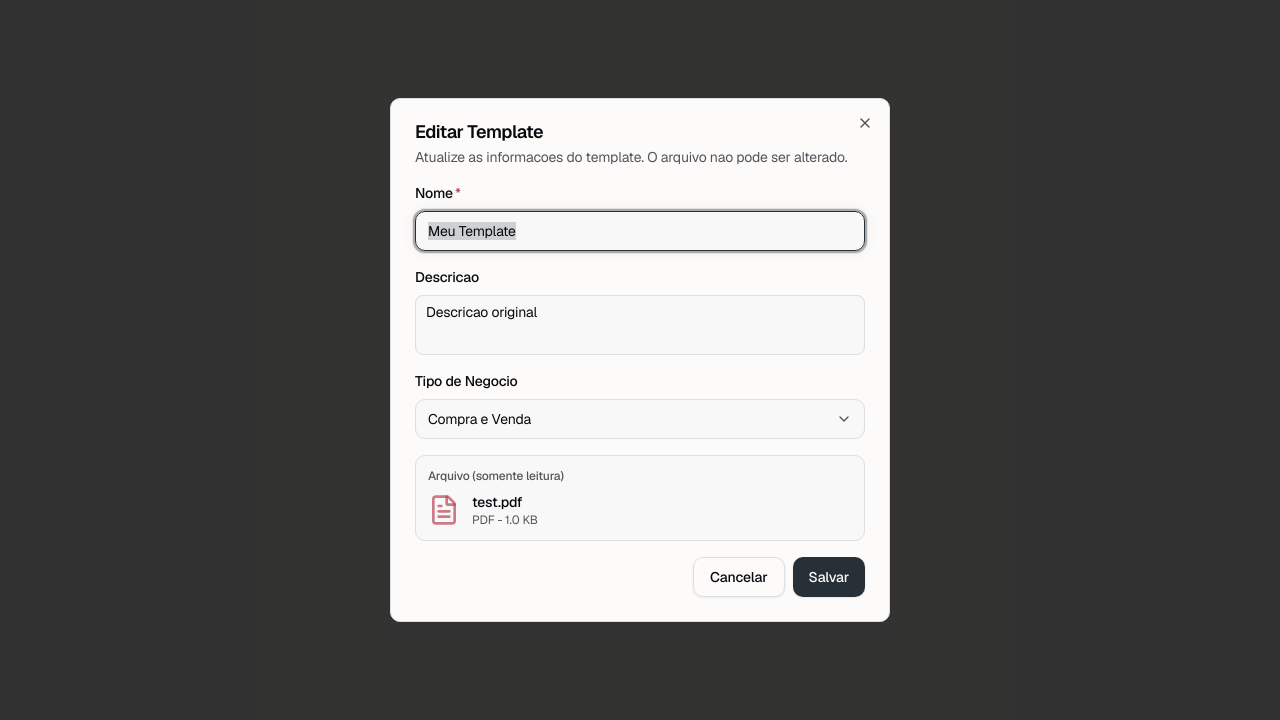
Test case: TemplateEditModal › Validation › validates nome minimum length
Replace the text in the field labelled "Nome*" with "AB" at point(640, 231), box 415,211 -> 865,251
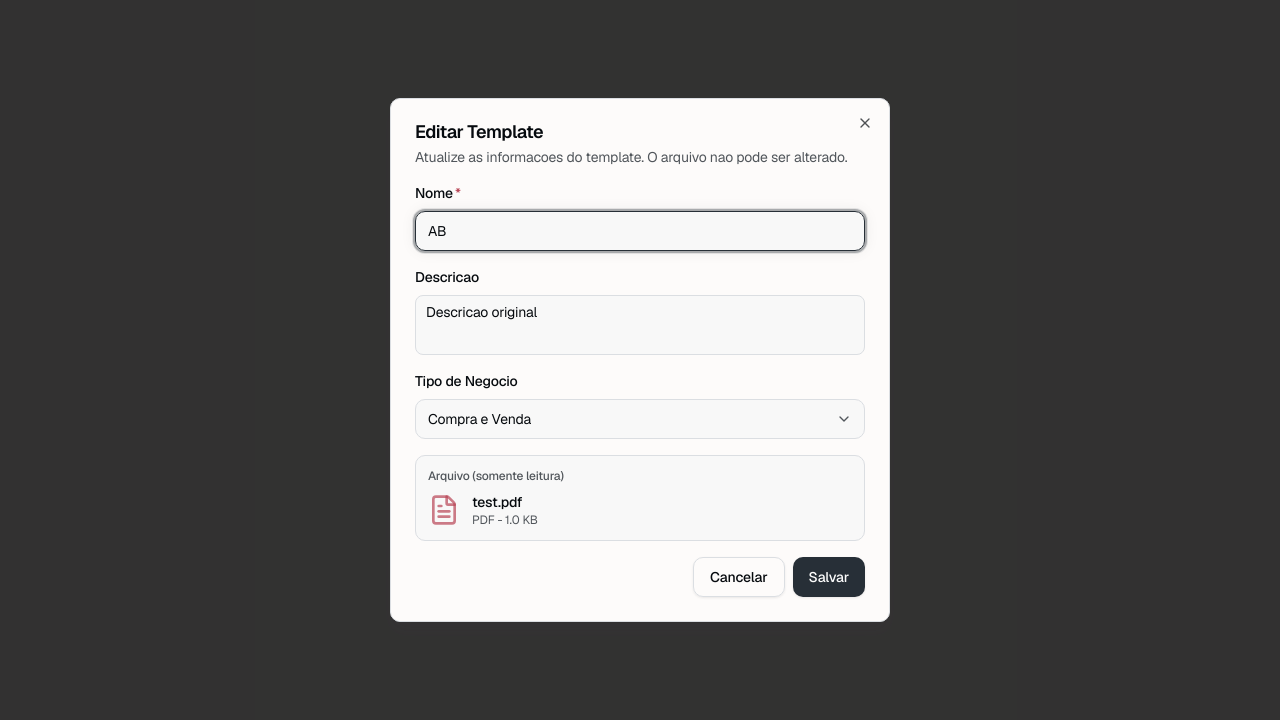
Click the button "Salvar".
click(829, 577)  # box 793,557 -> 865,597
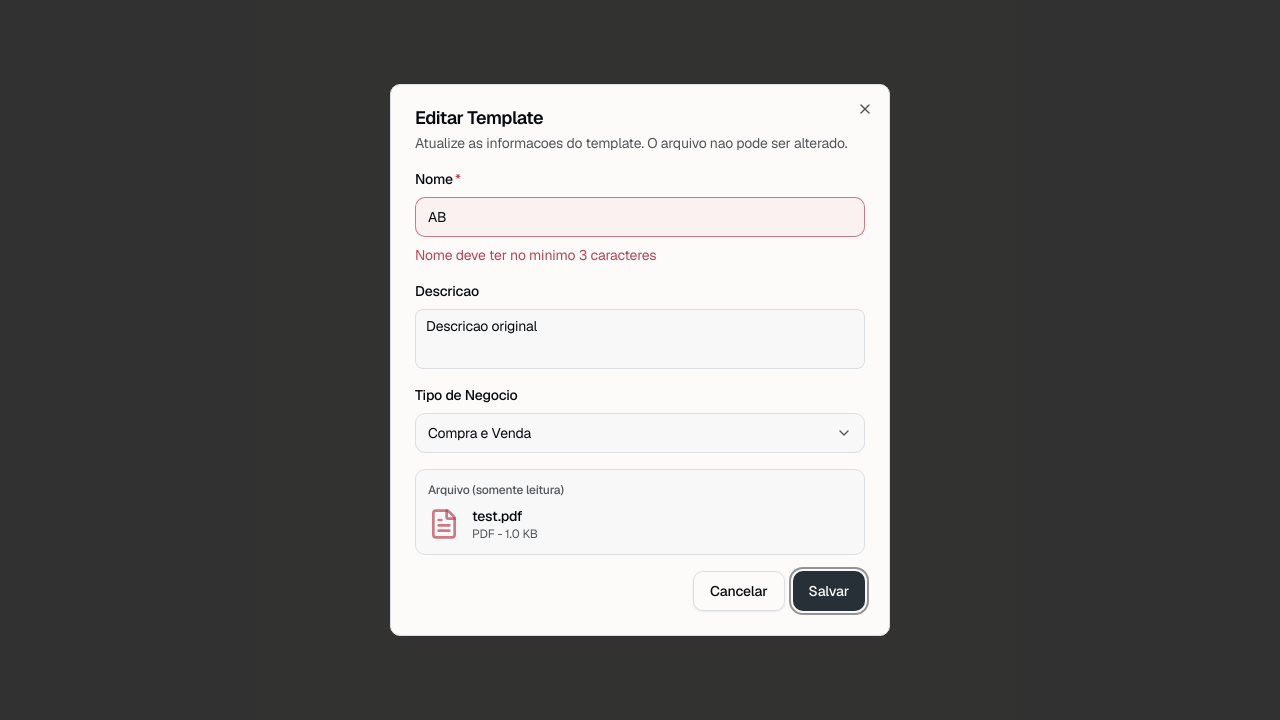
Check: the text "Nome deve ter no minimo 3 caracteres" is shown, box 415,246 -> 656,264
